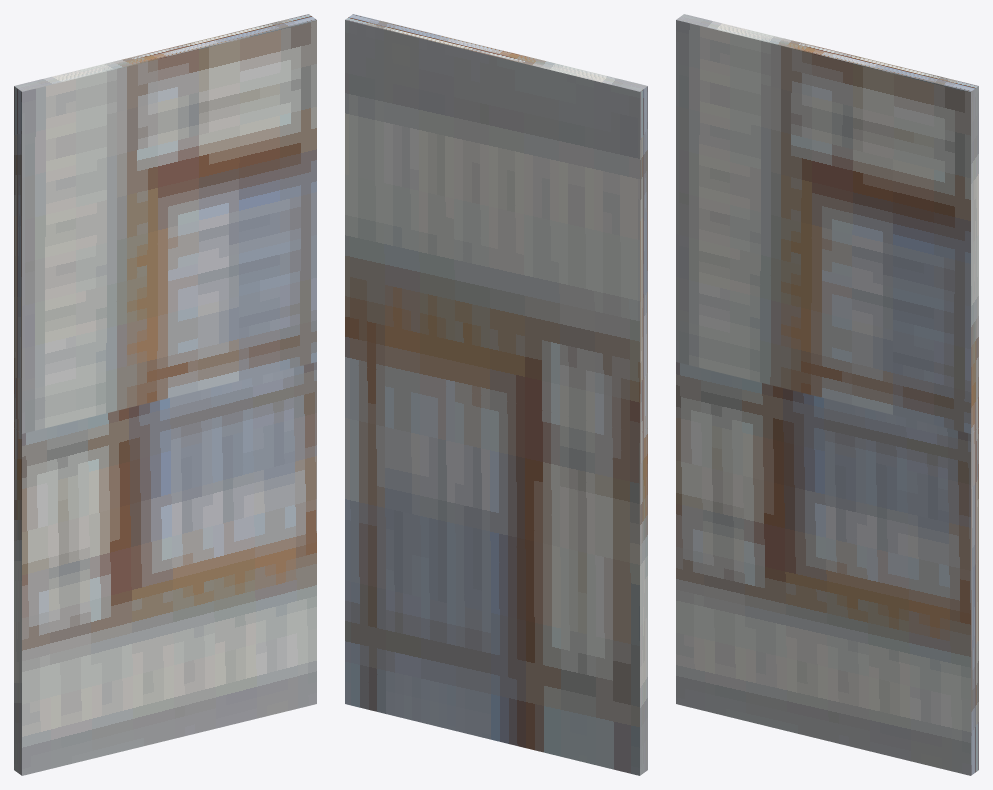
The model's file is 154_rooftile.gltf.
3 renders of one model, left to right at view 1: azimuth 30°, elevation 25°; view 2: azimuth 150°, elevation 25°; view 3: azimuth 330°, elevation 25°, orthographic.
Parts seen in each view (by area): view 1: rooftile; view 2: rooftile; view 3: rooftile.
Boxes of the visible parts, left/top/right/bottom form: rooftile: left=14, top=14, right=316, bottom=775; rooftile: left=345, top=14, right=647, bottom=775; rooftile: left=676, top=14, right=978, bottom=775.
Size of the model in its own units: 8.41 by 18.63 by 0.3991.
1 material, 1 textured.
